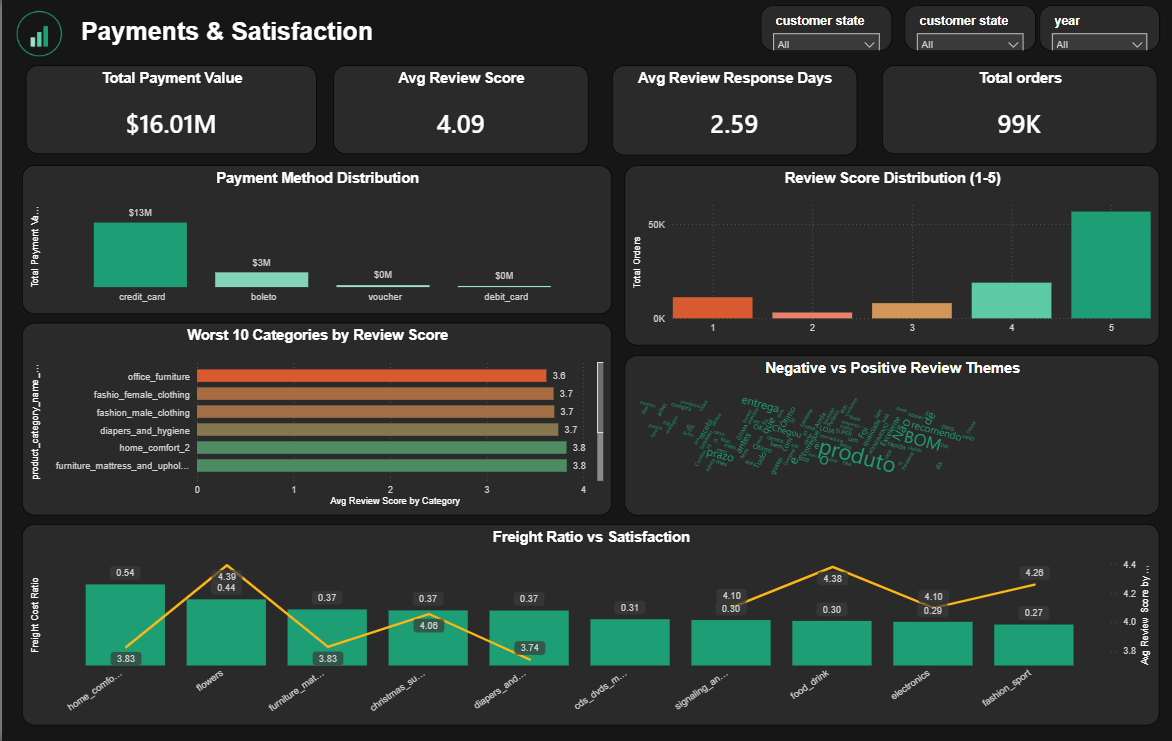

The dashboard page shown, as its layout file describes it:
{"tool":"powerbi","page":{"name":"Payments & Satisfaction","canvas":[1500,950],"ordinal":5},"visuals":[{"type":"cardVisual","title":"Total Payment Value","fields":{"Data":["_Measures.Total Payment Value"]},"box":[30.4,84.7,372.4,113.5],"z":0},{"type":"cardVisual","title":"Avg Review Response Days","fields":{"Data":["_Measures.Avg Review Response Days"]},"box":[780,84.7,313.3,115.1],"z":1000},{"type":"cardVisual","title":"Avg Review Score","fields":{"Data":["_Measures.Avg Review Score"]},"box":[423.5,84.7,326,113.5],"z":2000},{"type":"slicer","fields":{"Values":["dim_date.year"]},"box":[1326.6,8,153.7,58.2],"z":3000},{"type":"slicer","fields":{"Values":["dim_customer.customer_state"]},"box":[1154,8,167.7,58.2],"z":4000},{"type":"clusteredColumnChart","title":"Review Score Distribution (1-5)","fields":{"Category":["fact_orders.review_score"],"Y":["_Measures.Total Orders"]},"box":[795.9,212.6,684.1,230.2],"z":5000},{"type":"clusteredColumnChart","title":"Payment Method Distribution","fields":{"Category":["dim_payment_type.payment_type"],"Y":["_Measures.Total Payment Value"]},"box":[25.6,212.6,754.4,190.2],"z":6000},{"type":"WordCloud1447959067750","title":"Negative vs Positive Review Themes","fields":{"Category":["dim_review_text.review_comment_message"],"Values":["_Measures.Total Orders"]},"box":[795.9,455.5,684.1,204.6],"z":7000},{"type":"textbox","box":[95.9,19.2,397.5,95],"z":8000},{"type":"clusteredBarChart","title":"Worst 10 Categories by Review Score","fields":{"Category":["dim_product.product_category_name_english"],"Y":["_Measures.Avg Review Score by Category"]},"box":[25.6,414,754.4,246.1],"z":9000},{"type":"cardVisual","title":"Total orders","fields":{"Data":["_Measures.Total Orders"]},"box":[1125.2,84.7,351.6,113.5],"z":10000},{"type":"lineClusteredColumnComboChart","title":"Freight Ratio vs Satisfaction","fields":{"Category":["dim_product.product_category_name_english"],"Y":["_Measures.Freight Cost Ratio"],"Y2":["_Measures.Avg Review Score by Category"]},"box":[25.6,671.3,1454.4,257.3],"z":11000},{"type":"slicer","fields":{"Values":["fact_orders.review_score"]},"box":[970.2,8,167.7,58.2],"z":12000},{"type":"image","box":[0,10.9,95.7,66.6],"z":13000}]}

Visuals, with their boxes in screenshot pixels (x1, y1, x2, y2), scaled from the page's 1500x950 canvas onto the 1172x741 screenshot:
"Total Payment Value" cardVisual: bbox=(24, 66, 315, 155)
"Avg Review Response Days" cardVisual: bbox=(609, 66, 854, 156)
"Avg Review Score" cardVisual: bbox=(331, 66, 586, 155)
slicer - dim_date.year: bbox=(1037, 6, 1157, 52)
slicer - dim_customer.customer_state: bbox=(902, 6, 1033, 52)
"Review Score Distribution (1-5)" clusteredColumnChart: bbox=(622, 166, 1156, 345)
"Payment Method Distribution" clusteredColumnChart: bbox=(20, 166, 609, 314)
"Negative vs Positive Review Themes" WordCloud1447959067750: bbox=(622, 355, 1156, 515)
textbox: bbox=(75, 15, 386, 89)
"Worst 10 Categories by Review Score" clusteredBarChart: bbox=(20, 323, 609, 515)
"Total orders" cardVisual: bbox=(879, 66, 1154, 155)
"Freight Ratio vs Satisfaction" lineClusteredColumnComboChart: bbox=(20, 524, 1156, 724)
slicer - fact_orders.review_score: bbox=(758, 6, 889, 52)
image: bbox=(0, 9, 75, 60)
